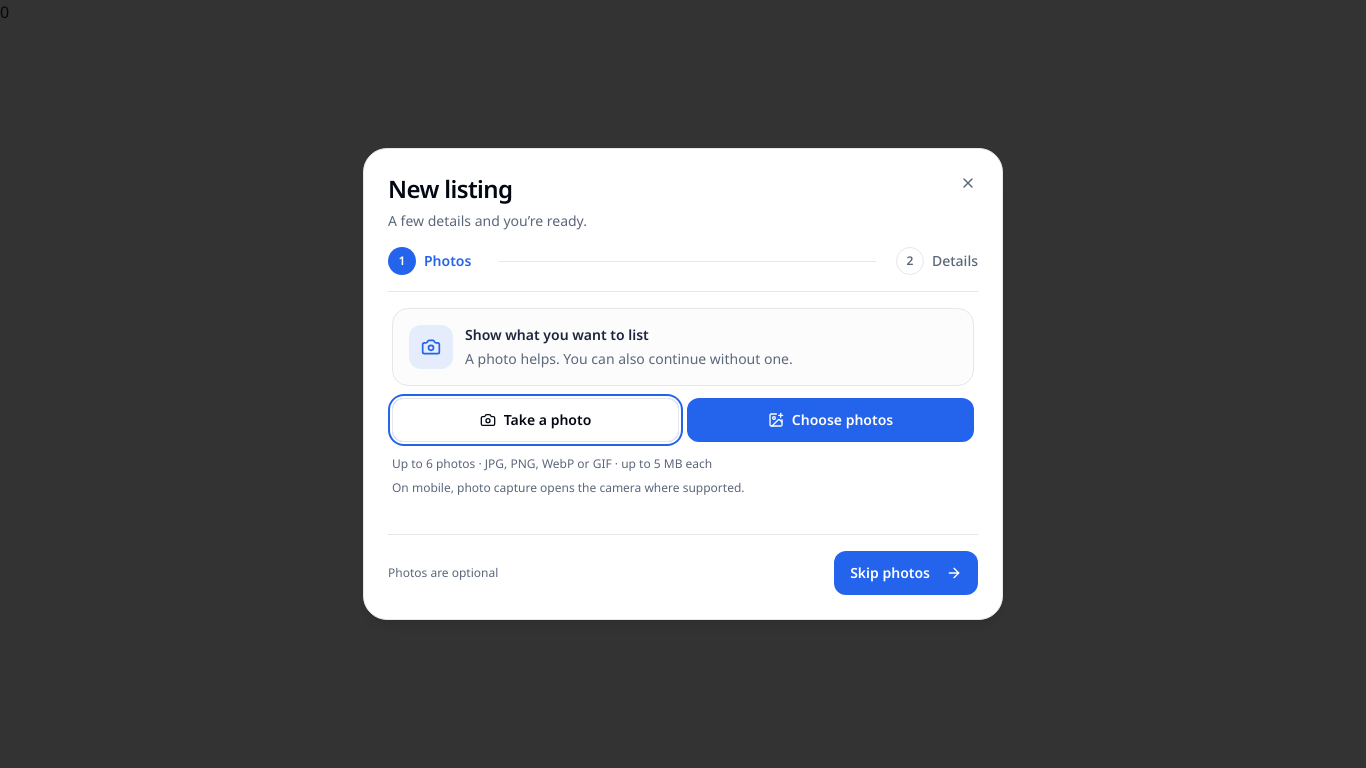
it: Create listing location state and persistence › does not refresh the overview when listing persistence itself fails
Click the button "Skip photos" at (906, 573), box x1=834 y1=551 x2=978 y2=595
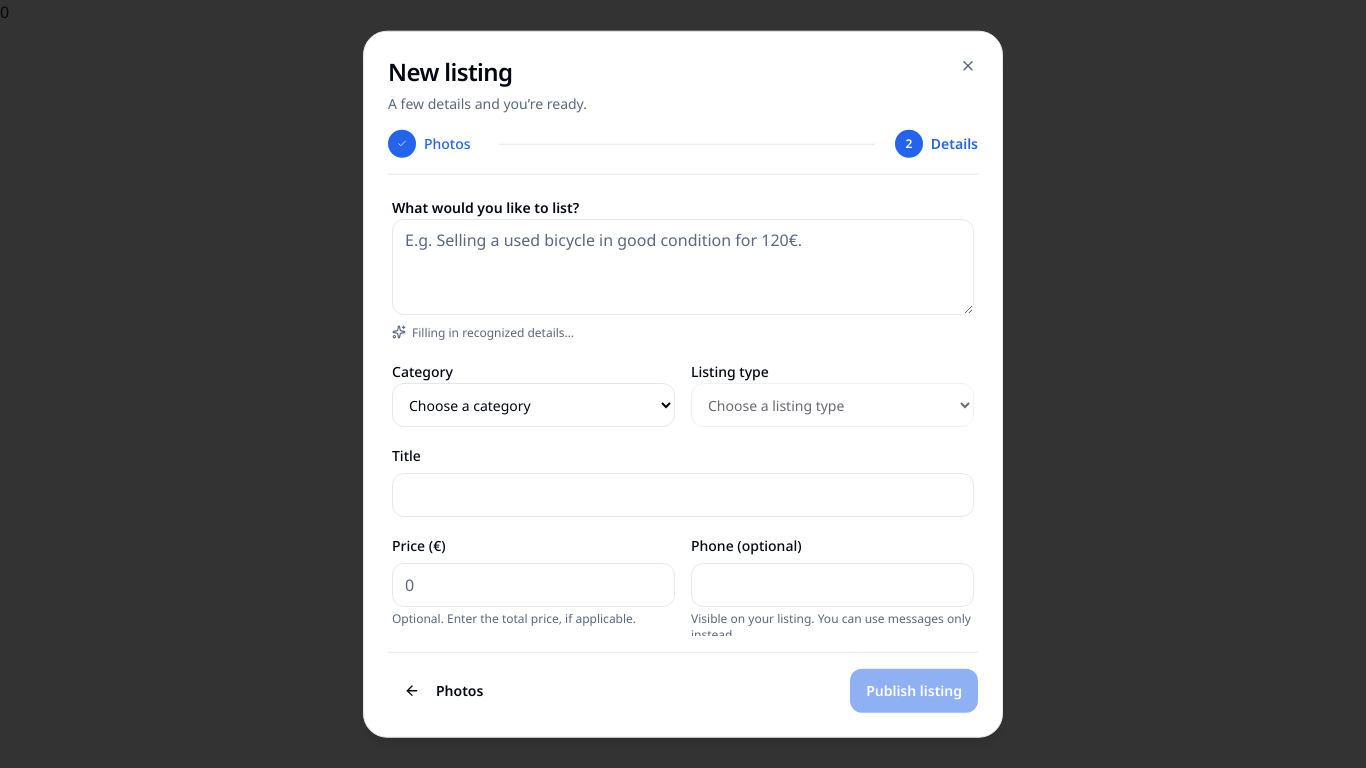
Type "A large wooden desk in good condition." into the text box labelled "What would you like to list?" at (683, 267), box x1=392 y1=219 x2=974 y2=315
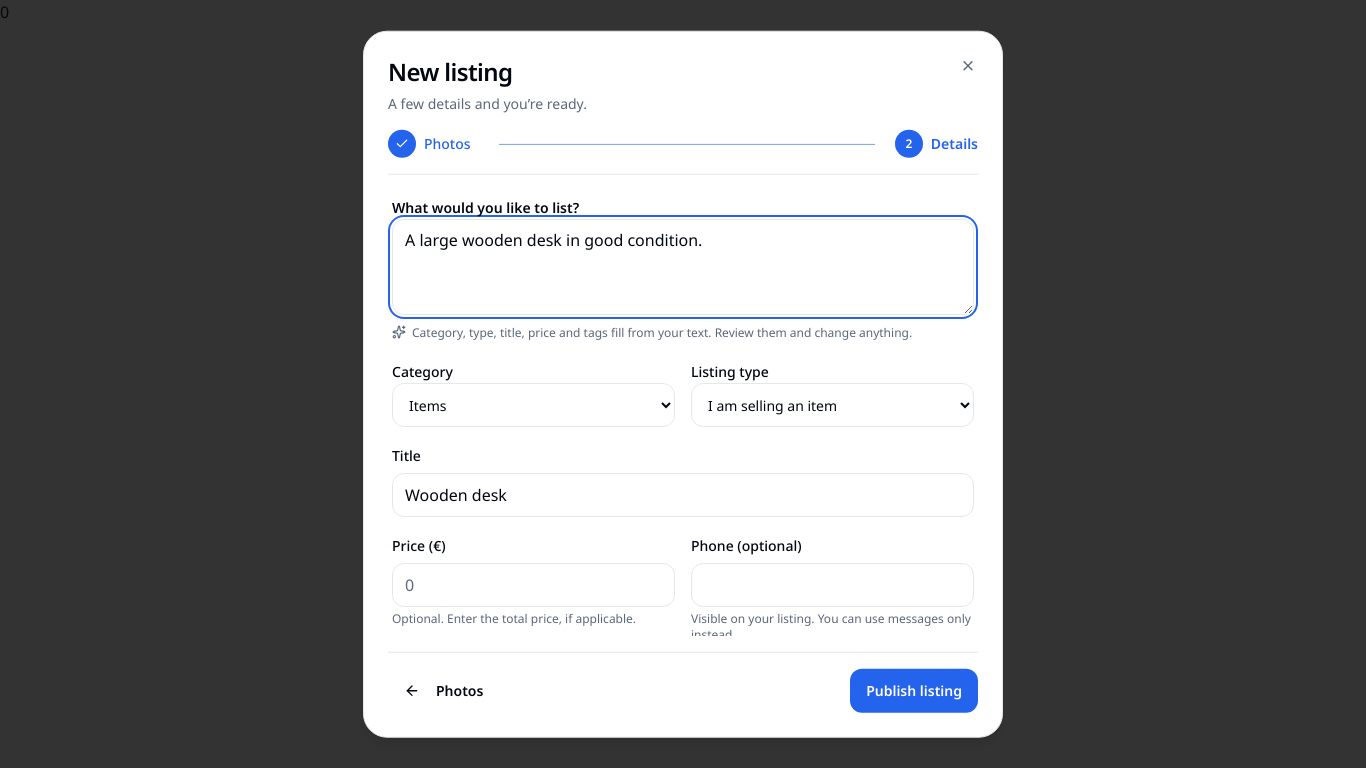
Expected: the button "Publish listing" is enabled
Click the button "Publish listing" at (914, 690), box x1=850 y1=668 x2=978 y2=712
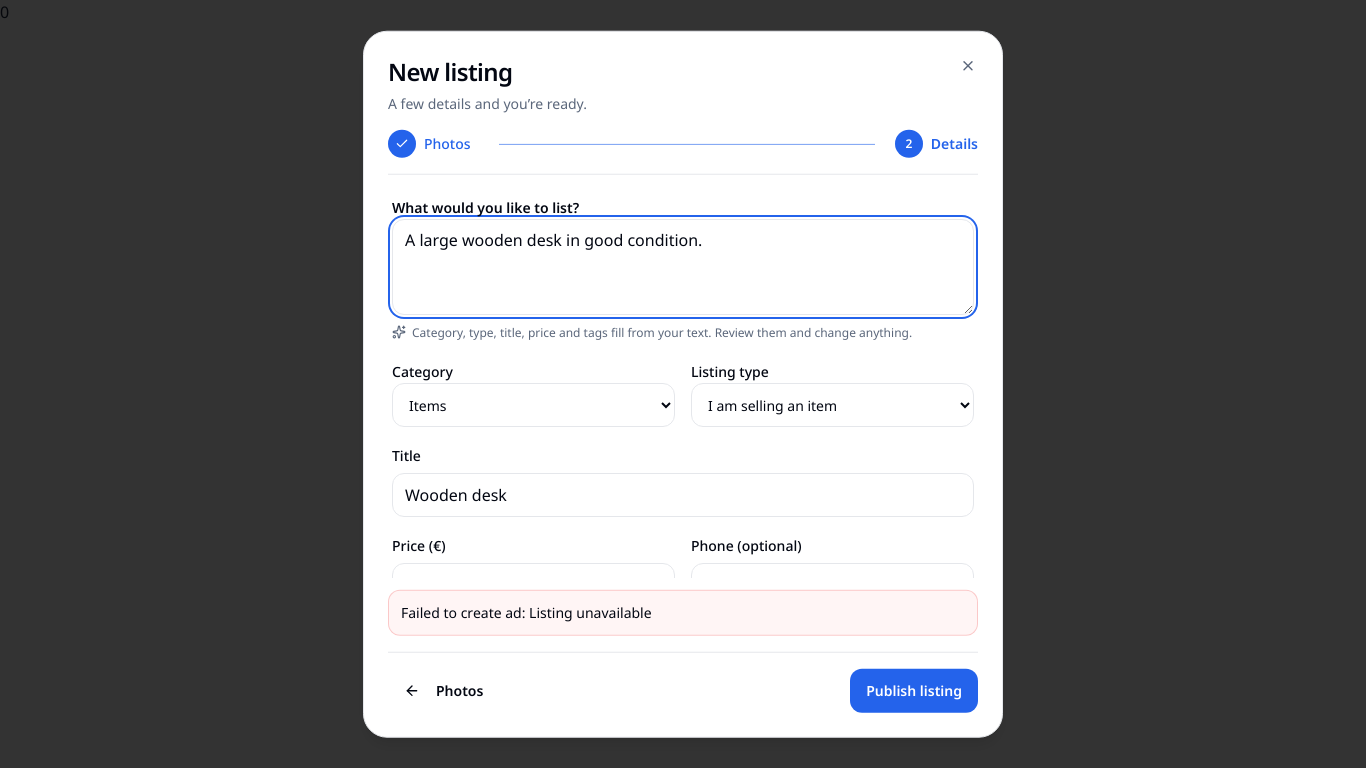
Expected: the text with test id "overview-count" reads "0", x1=0 y1=1 x2=9 y2=23
Expected: the text "Failed to create ad: Listing unavailable" is shown, x1=401 y1=602 x2=652 y2=621
